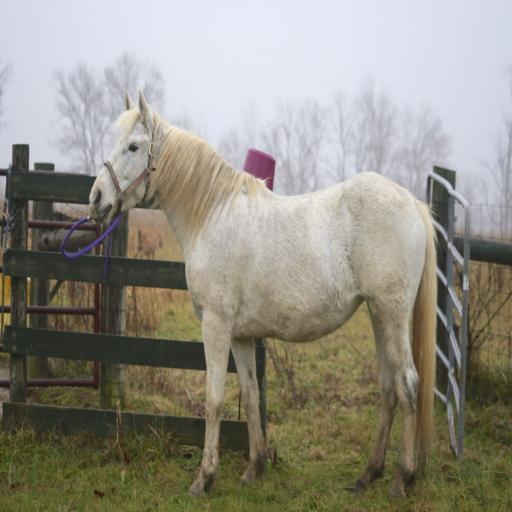horse: (86, 87, 436, 504)
